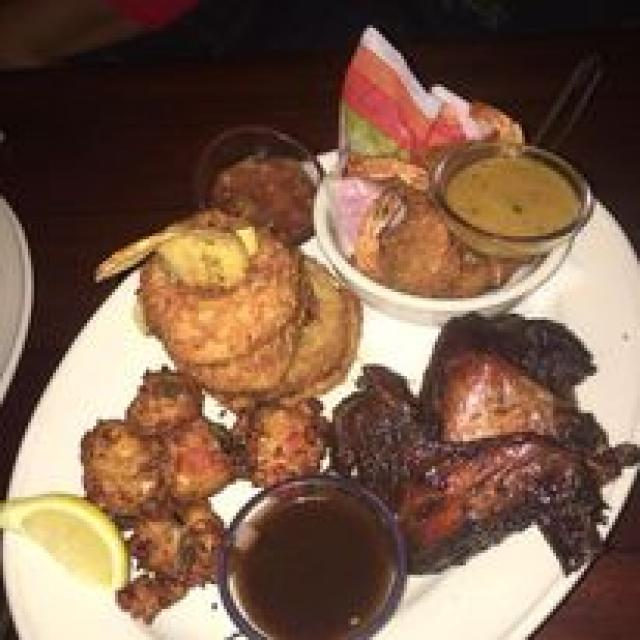Chicken Wings: (352, 296, 640, 600), (357, 137, 631, 295)
Onion Rings: (118, 211, 367, 395)
